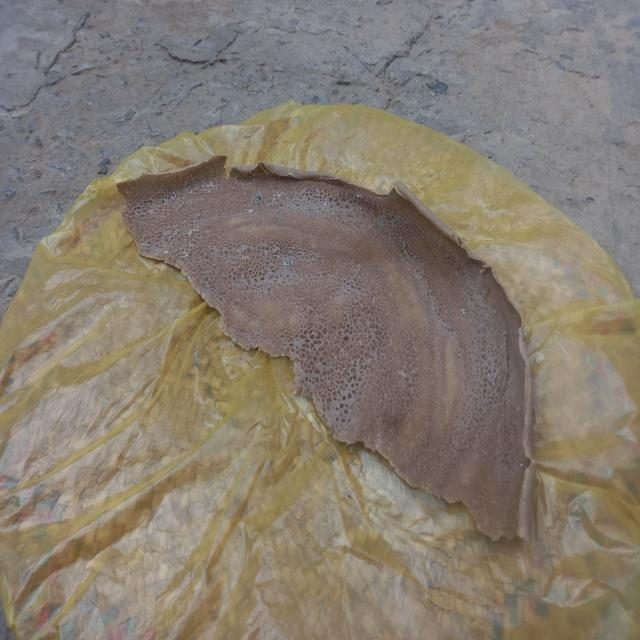injera_mold: (208, 183, 213, 191), (379, 221, 384, 229), (257, 193, 261, 201), (170, 192, 174, 200), (287, 258, 292, 264), (198, 196, 202, 203), (183, 250, 187, 257), (185, 188, 189, 195), (274, 253, 278, 260), (183, 231, 187, 238), (501, 412, 505, 419), (193, 238, 197, 245), (169, 208, 173, 215), (277, 209, 281, 215), (161, 199, 165, 205), (247, 209, 253, 213), (483, 368, 487, 374), (202, 185, 205, 193), (272, 198, 276, 204), (324, 201, 327, 208), (345, 190, 348, 197), (148, 210, 152, 215), (278, 192, 282, 197), (252, 178, 257, 182), (357, 194, 361, 199), (292, 244, 294, 254), (143, 211, 147, 216), (206, 176, 209, 182), (125, 188, 128, 194), (190, 198, 193, 204), (215, 185, 218, 191), (136, 211, 139, 217), (188, 230, 192, 234), (260, 217, 264, 221), (462, 310, 466, 314), (197, 214, 201, 218), (180, 247, 182, 255), (191, 207, 194, 212), (500, 329, 503, 334), (242, 182, 245, 187), (195, 229, 199, 232), (166, 249, 168, 255), (312, 245, 315, 249), (230, 178, 233, 182), (218, 235, 221, 239), (250, 229, 252, 235), (508, 405, 512, 408), (518, 407, 520, 413), (520, 462, 522, 468), (143, 243, 146, 247), (177, 205, 180, 209), (171, 249, 173, 254), (228, 192, 230, 197), (500, 345, 502, 350), (191, 189, 193, 194), (188, 241, 191, 244), (140, 225, 143, 228), (156, 253, 159, 256), (172, 245, 175, 248), (205, 228, 208, 231), (196, 181, 198, 185), (182, 201, 184, 205), (486, 349, 488, 353), (447, 410, 449, 414), (360, 208, 362, 211), (125, 206, 127, 209), (208, 233, 211, 235), (185, 182, 187, 185), (479, 368, 480, 372)
